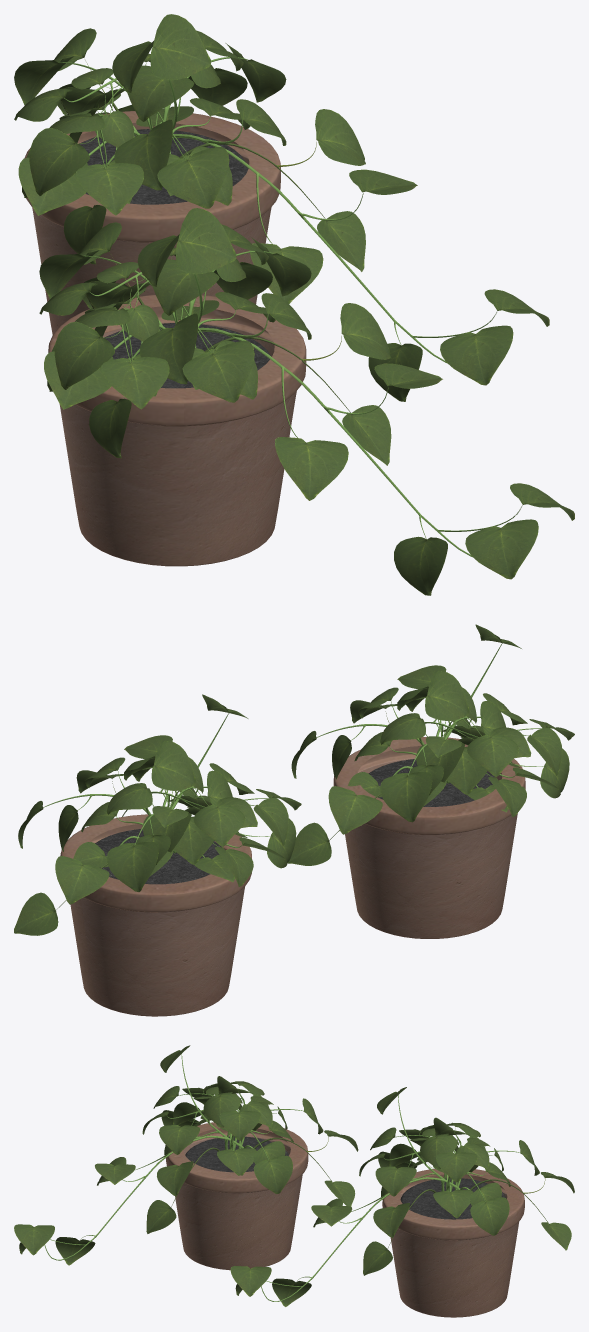
Rendered from dosplantas.glb.
3 renders of one model, top to bottom at view 1: azimuth 30°, elevation 25°; view 2: azimuth 150°, elevation 25°; view 3: azimuth 270°, elevation 25°, orthographic. The views are drawn at different scales.
Visible parts, largest first — view 1: Object_6, Object_6.001, Object_3, Object_3.001, Object_2.001, Object_4.001, Object_4, Object_2, Object_5, Object_5.001; view 2: Object_3, Object_6.001, Object_3.001, Object_6, Object_2.001, Object_2, Object_5.001, Object_5; view 3: Object_6, Object_6.001, Object_3.001, Object_3, Object_2.001, Object_2, Object_4, Object_4.001, Object_5.001, Object_5.
Part boxes in pixels (x1,y1,x2,y2): Object_6: (39, 208, 574, 595); Object_6.001: (14, 14, 549, 401); Object_3: (48, 295, 306, 566); Object_3.001: (24, 111, 280, 334); Object_2.001: (79, 129, 248, 204); Object_4.001: (168, 80, 497, 363); Object_4: (194, 274, 522, 556); Object_2: (104, 323, 271, 388); Object_5: (83, 251, 273, 398); Object_5.001: (58, 57, 248, 204); Object_3: (333, 737, 525, 938); Object_6.001: (14, 694, 301, 935); Object_3.001: (60, 814, 251, 1016); Object_6: (287, 624, 574, 865); Object_2.001: (95, 829, 221, 884); Object_2: (368, 759, 494, 806); Object_5.001: (41, 770, 270, 857); Object_5: (315, 701, 543, 787); Object_6: (14, 1045, 358, 1265); Object_6.001: (230, 1087, 574, 1306); Object_3.001: (382, 1169, 524, 1317); Object_3: (166, 1122, 308, 1270); Object_2.001: (400, 1178, 506, 1219); Object_2: (185, 1136, 288, 1172); Object_4: (44, 1054, 243, 1260); Object_4.001: (261, 1095, 460, 1301); Object_5.001: (384, 1128, 521, 1201); Object_5: (167, 1087, 304, 1159).
Size of the model in its own units: 10.03 by 6.68 by 16.76.
Materials: 4 (3 with a texture image).
